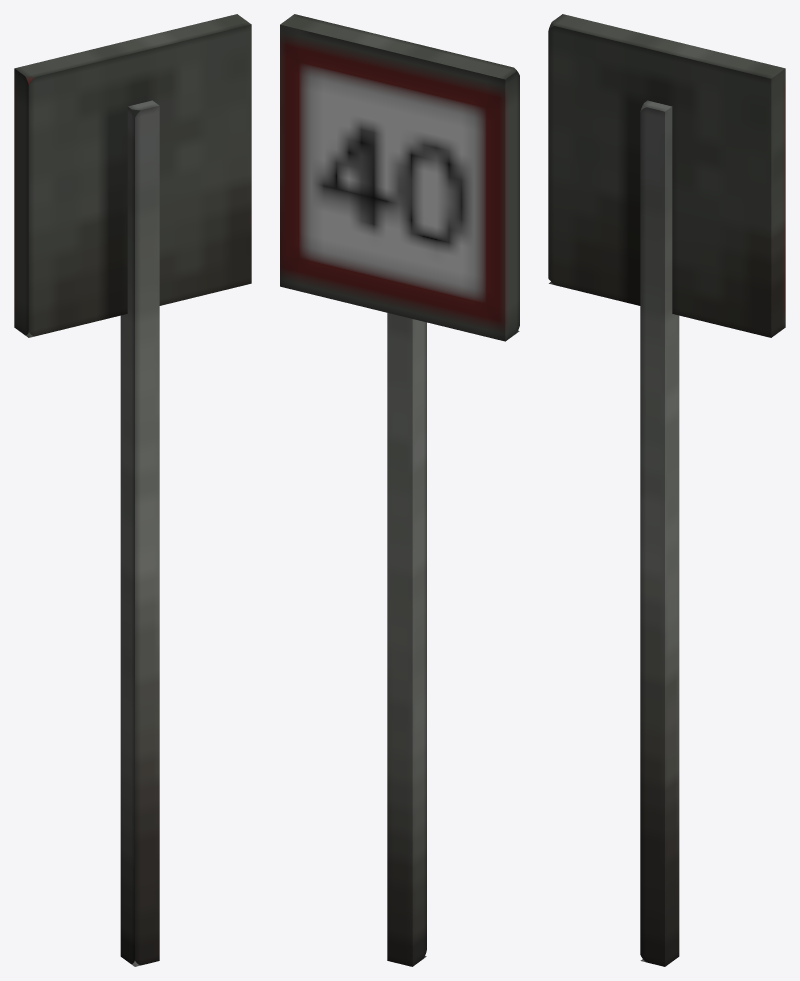
The model's file is roadsign40.obj.
3 views of the same model, side by side, from view 1: azimuth 30°, elevation 25°; view 2: azimuth 150°, elevation 25°; view 3: azimuth 330°, elevation 25° (orthographic).
Parts seen in each view (by area): view 1: ny, nx; view 2: ny, nx; view 3: ny, nx.
Boxes of the visible parts, x1,y1,x2,y2 form: ny: (14,14,251,337); nx: (120,100,159,966); ny: (280,14,519,341); nx: (387,313,426,966); ny: (548,14,785,337); nx: (640,100,679,966).
Bounding box in the file's own units: 0.5625 × 2.19 × 0.0938.
Materials: 1 (1 with a texture image).
